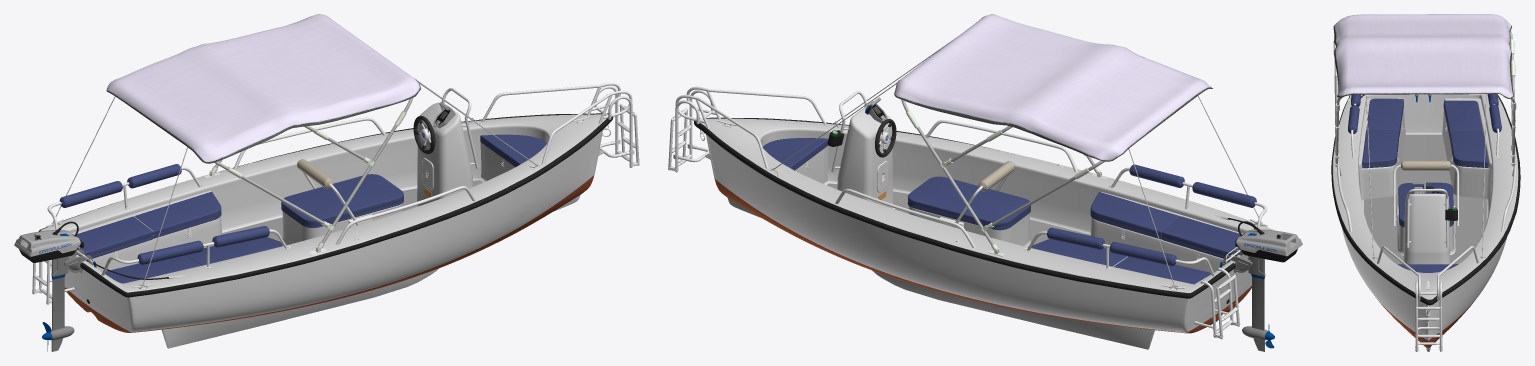
Rendered from ebalin_tura.gltf.
The picture shows the model from 3 angles, left to right: view 1: azimuth 30°, elevation 25°; view 2: azimuth 150°, elevation 25°; view 3: azimuth 270°, elevation 25°; orthographic projection. The views are drawn at different scales.
Visible parts, largest first — view 1: NEEDBOOLEAN_Front_seat, Bimini, Boat_outer_hull.001, Karpit.001, Dorzslec.001, Motor.001, Bottom_keel.001, Karpit_korlat, Letra_elso, Korlat_orr, Kozep_korlat.001, Korlat_hatso (+3 smaller); view 2: NEEDBOOLEAN_Front_seat, Bimini, Boat_outer_hull.001, Karpit.001, Dorzslec.001, Motor.001, Bottom_keel.001, Karpit_korlat, Letra_elso, Korlat_orr, Kozep_korlat.001, Letra_hatso (+3 smaller); view 3: NEEDBOOLEAN_Front_seat, Bimini, Karpit.001, Anti_slippery, Boat_outer_hull.001, Dorzslec.001, Letra_elso, Karpit_korlat, Box004, Korlat_orr, Karpit_vezetoules.001, Kozep_korlat.001 (+3 smaller).
Boxes of the visible parts, x1,y1,x2,y2 form: NEEDBOOLEAN_Front_seat: (40, 102, 611, 292); Bimini: (51, 14, 538, 288); Boat_outer_hull.001: (51, 131, 601, 332); Karpit.001: (76, 134, 546, 283); Dorzslec.001: (39, 113, 613, 297); Motor.001: (14, 221, 96, 351); Bottom_keel.001: (161, 195, 580, 348); Karpit_korlat: (59, 164, 269, 264); Letra_elso: (594, 85, 639, 167); Korlat_orr: (481, 82, 632, 165); Kozep_korlat.001: (233, 117, 475, 244); Korlat_hatso: (47, 166, 291, 275); NEEDBOOLEAN_Front_seat: (700, 106, 1273, 293); Bimini: (772, 14, 1262, 288); Boat_outer_hull.001: (707, 136, 1251, 333); Karpit.001: (762, 138, 1242, 284); Dorzslec.001: (694, 117, 1235, 298); Motor.001: (1220, 221, 1302, 351); Bottom_keel.001: (727, 198, 1154, 349); Karpit_korlat: (1046, 164, 1256, 265); Letra_elso: (668, 90, 713, 172); Korlat_orr: (675, 86, 827, 169); Kozep_korlat.001: (835, 120, 1077, 247); Letra_hatso: (1194, 267, 1240, 339); NEEDBOOLEAN_Front_seat: (1332, 94, 1518, 304); Bimini: (1333, 14, 1516, 259); Karpit.001: (1362, 98, 1488, 272); Anti_slippery: (1363, 134, 1486, 264); Boat_outer_hull.001: (1341, 167, 1506, 347); Dorzslec.001: (1331, 95, 1520, 305); Letra_elso: (1415, 281, 1442, 351); Karpit_korlat: (1348, 94, 1501, 133); Box004: (1393, 164, 1459, 235); Korlat_orr: (1376, 246, 1479, 300); Karpit_vezetoules.001: (1401, 161, 1451, 170); Kozep_korlat.001: (1337, 164, 1516, 231).
Bounding box in the file's own units: 4.34 × 1.54 × 1.37.
Materials: 25 (8 with a texture image).
